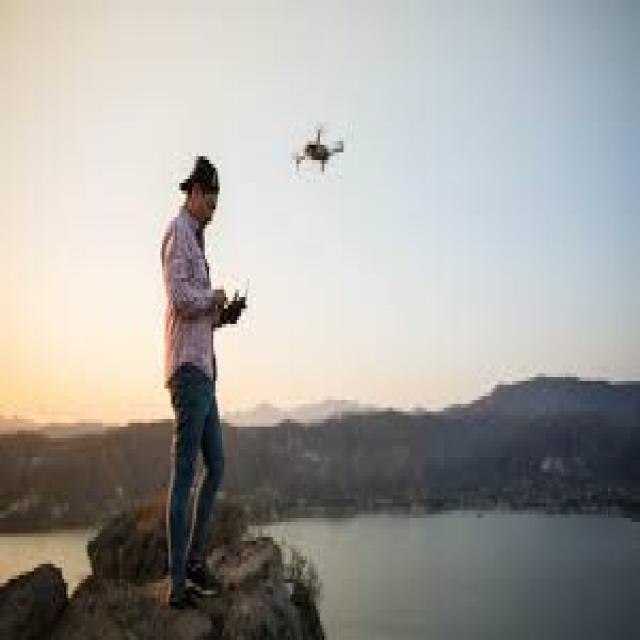Drone: (282, 122, 354, 189)
